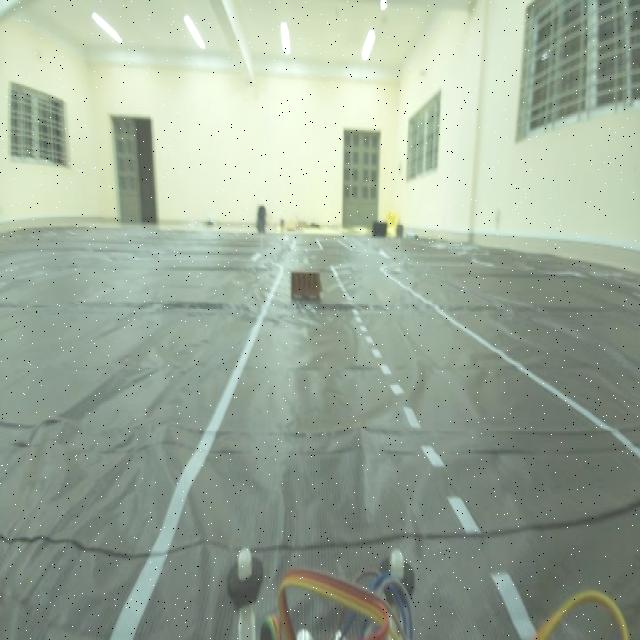roadblock: (288, 264, 328, 317)
